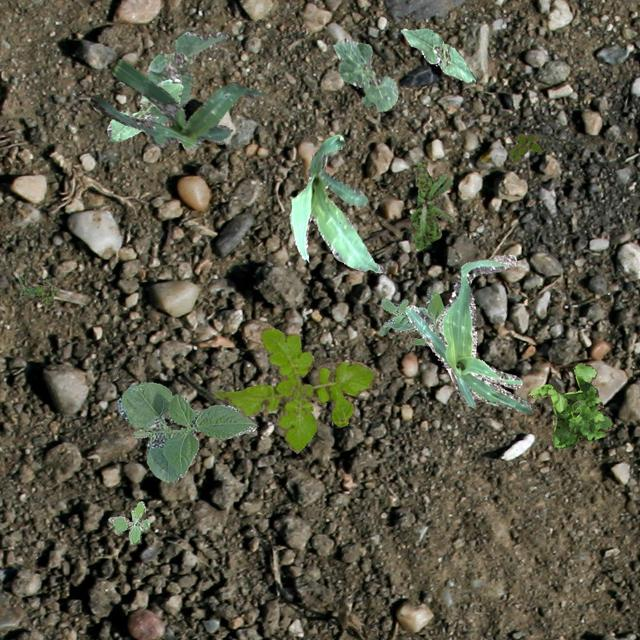crop: (404, 254, 532, 412), (90, 58, 262, 150), (117, 382, 256, 482), (288, 134, 382, 272), (146, 30, 228, 124), (106, 78, 182, 140), (332, 38, 397, 110), (400, 28, 474, 82)
weed: (212, 324, 376, 452), (528, 362, 612, 449), (376, 290, 448, 344), (408, 162, 452, 248), (108, 500, 148, 542), (16, 276, 58, 302), (508, 132, 540, 160)
